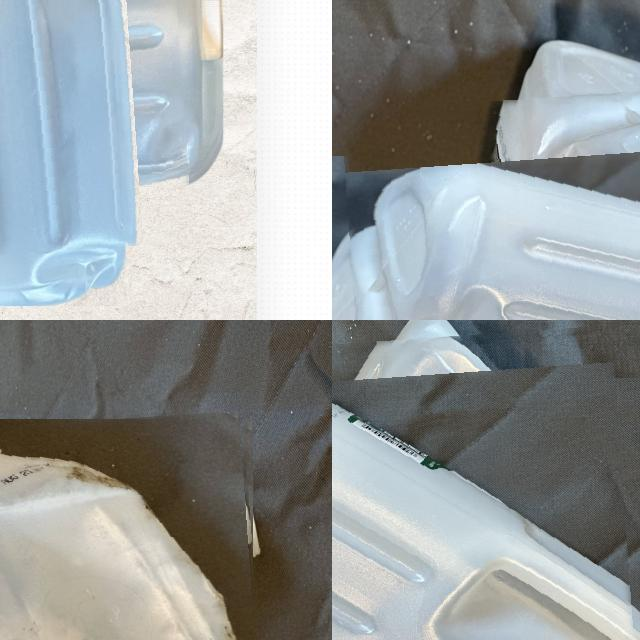milk-jug: (332, 333, 637, 640), (349, 87, 640, 320), (0, 416, 264, 640), (0, 0, 188, 261)
